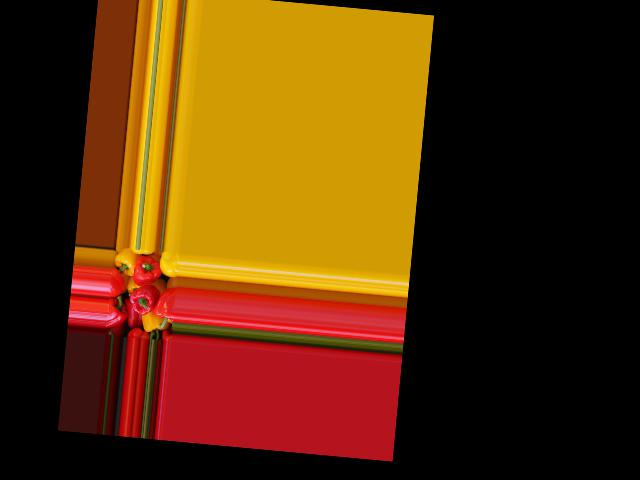bell_pepper: (115, 247, 140, 274)
